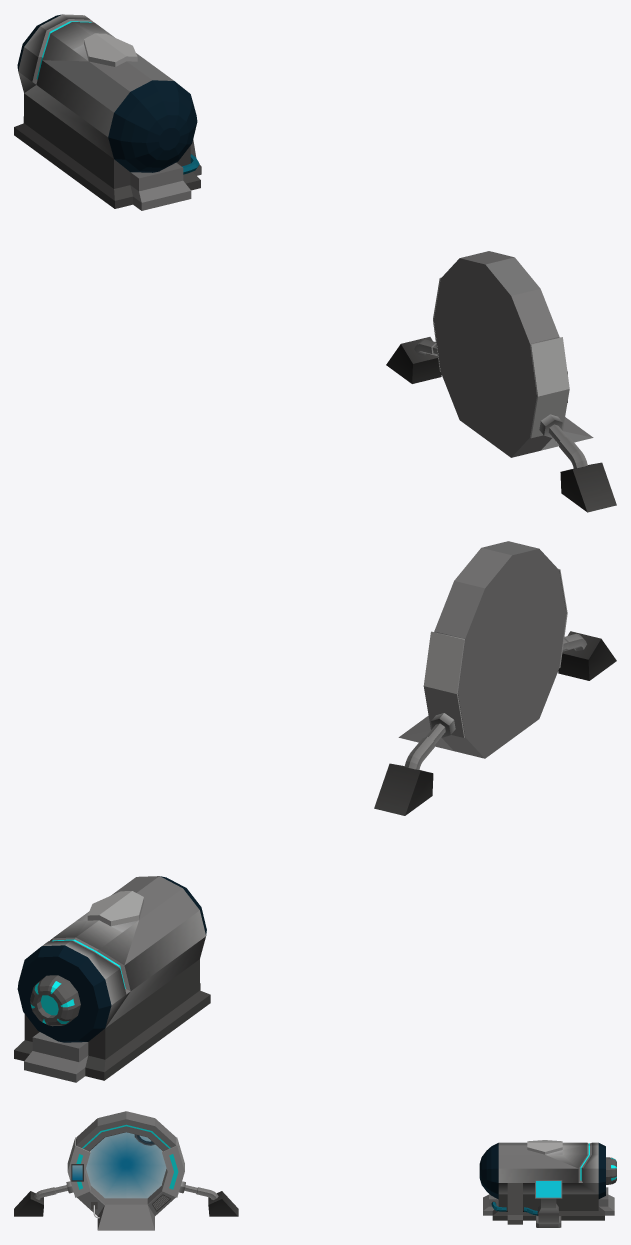
File: complexos2.fbx
The picture shows the model from 3 angles, top to bottom: view 1: azimuth 30°, elevation 25°; view 2: azimuth 150°, elevation 25°; view 3: azimuth 270°, elevation 25°; orthographic projection. The views are drawn at different scales.
Visible parts, largest first — view 1: Portal, BaseRecarga; view 2: Portal, BaseRecarga; view 3: Portal, BaseRecarga.
Part boxes in pixels (x1=…): Portal: x1=386, y1=251, x2=616, y2=512; BaseRecarga: x1=14, y1=14, x2=201, y2=210; Portal: x1=374, y1=541, x2=616, y2=815; BaseRecarga: x1=14, y1=876, x2=210, y2=1082; Portal: x1=14, y1=1111, x2=238, y2=1230; BaseRecarga: x1=479, y1=1140, x2=616, y2=1227.
Size of the model in its own units: 6362 by 1135 by 853.
